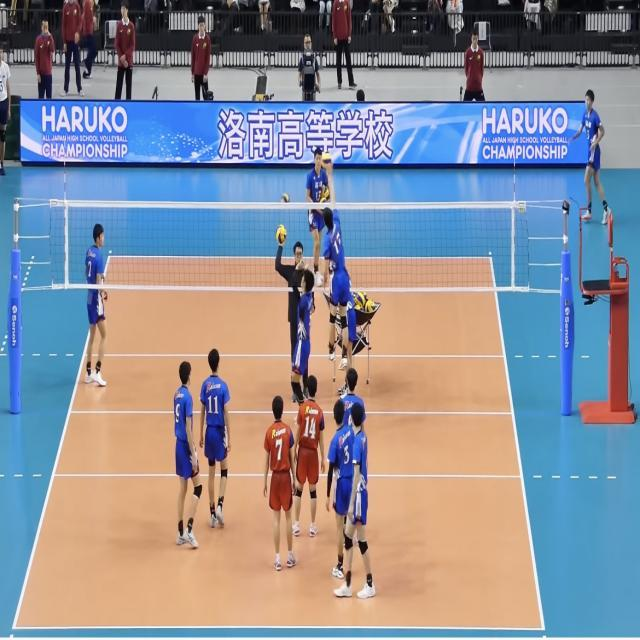spike: (316, 142, 354, 376)
